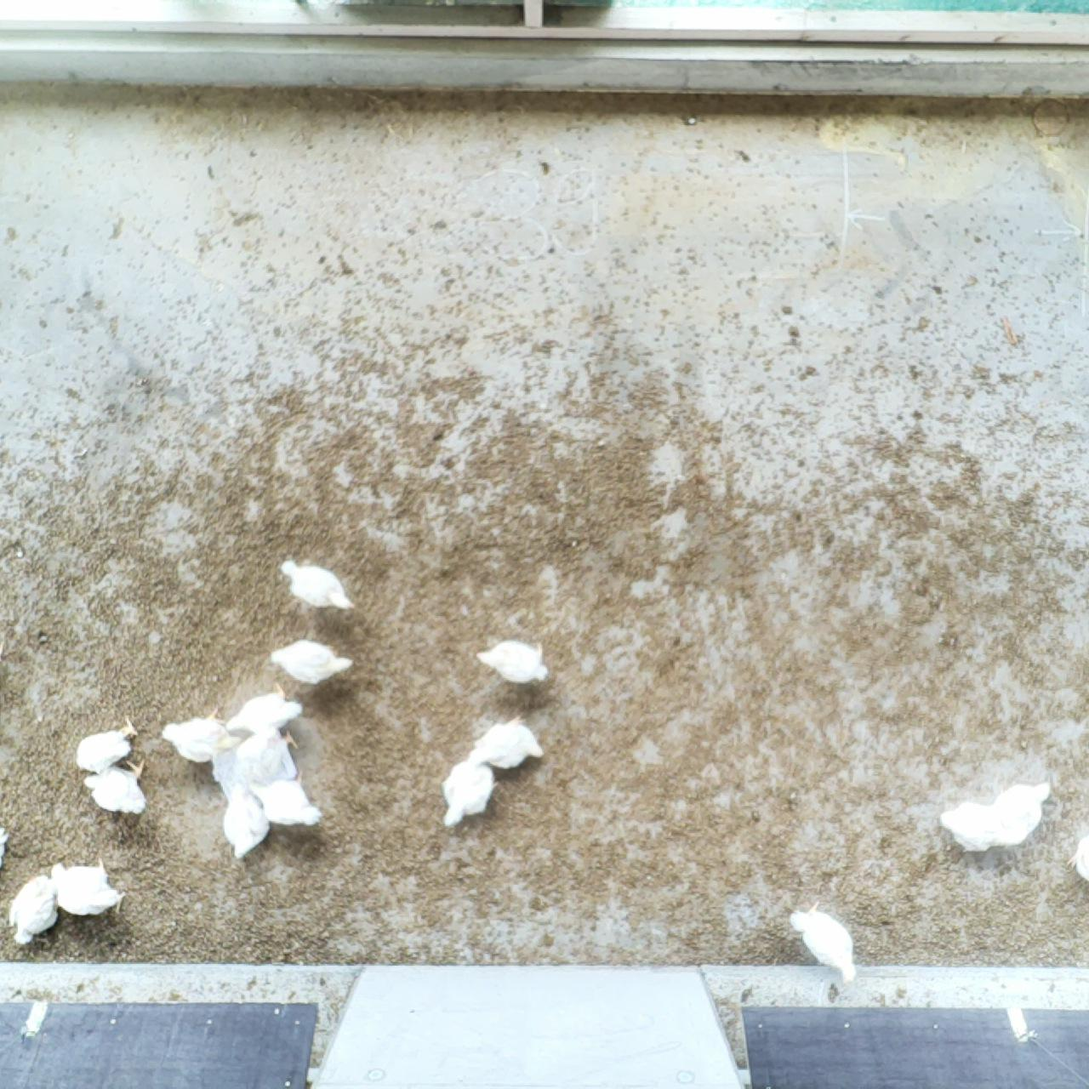chicken: (789, 897, 857, 985), (159, 705, 242, 769), (47, 859, 129, 922), (465, 711, 547, 773), (278, 554, 358, 617), (436, 757, 500, 835), (227, 679, 305, 739), (993, 779, 1058, 849), (248, 771, 326, 829), (71, 713, 142, 776), (472, 636, 554, 690), (80, 756, 149, 820), (7, 871, 62, 950), (269, 636, 355, 686), (220, 783, 272, 864), (238, 728, 304, 787), (939, 798, 1000, 861), (207, 747, 249, 794), (1064, 828, 1089, 884)
